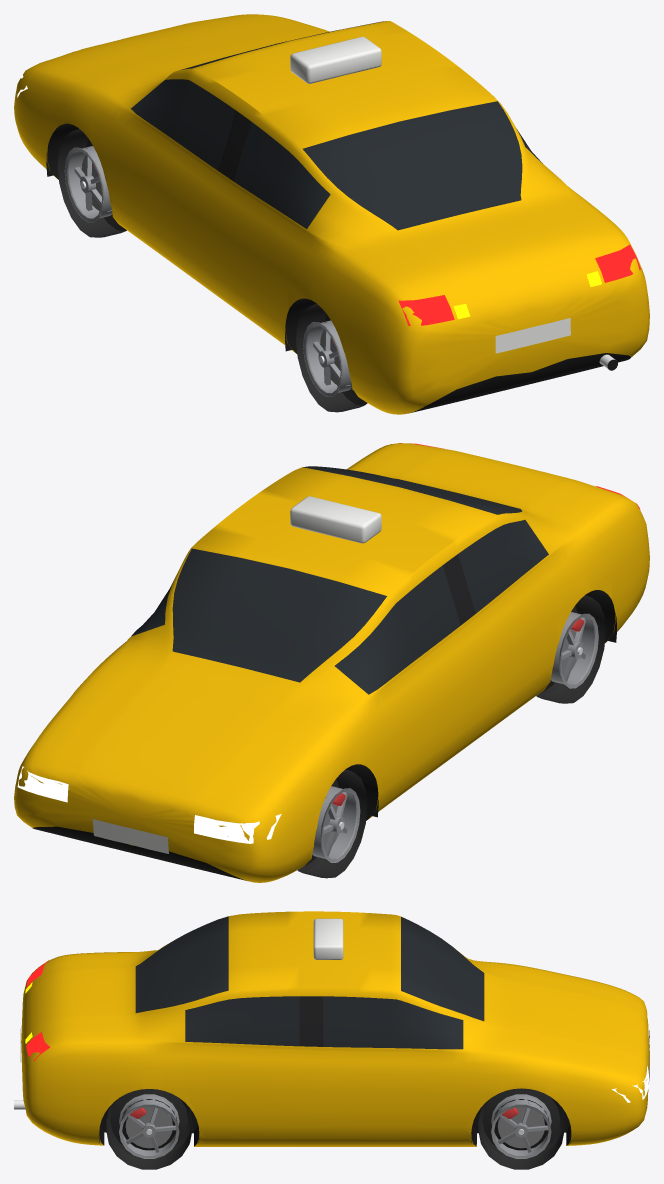
File: t_taxi.glb
3 views of the same model, one above another, from view 1: azimuth 30°, elevation 25°; view 2: azimuth 150°, elevation 25°; view 3: azimuth 270°, elevation 25° (orthographic). The views are drawn at different scales.
Parts seen in each view (by area): view 1: Body, Wheel_RL, Wheel_FL; view 2: Body, Wheel_FL, Wheel_RL; view 3: Body, Wheel_FR, Wheel_RR.
Boxes of the visible parts, bbox=[...] form: Body: bbox=[14, 14, 649, 414]; Wheel_RL: bbox=[296, 304, 367, 412]; Wheel_FL: bbox=[57, 129, 126, 237]; Body: bbox=[14, 443, 649, 882]; Wheel_FL: bbox=[297, 769, 367, 878]; Wheel_RL: bbox=[536, 595, 605, 703]; Body: bbox=[14, 911, 649, 1146]; Wheel_FR: bbox=[478, 1088, 564, 1169]; Wheel_RR: bbox=[106, 1089, 192, 1169].
Size of the model in its own units: 1.8 by 1.55 by 4.7.
